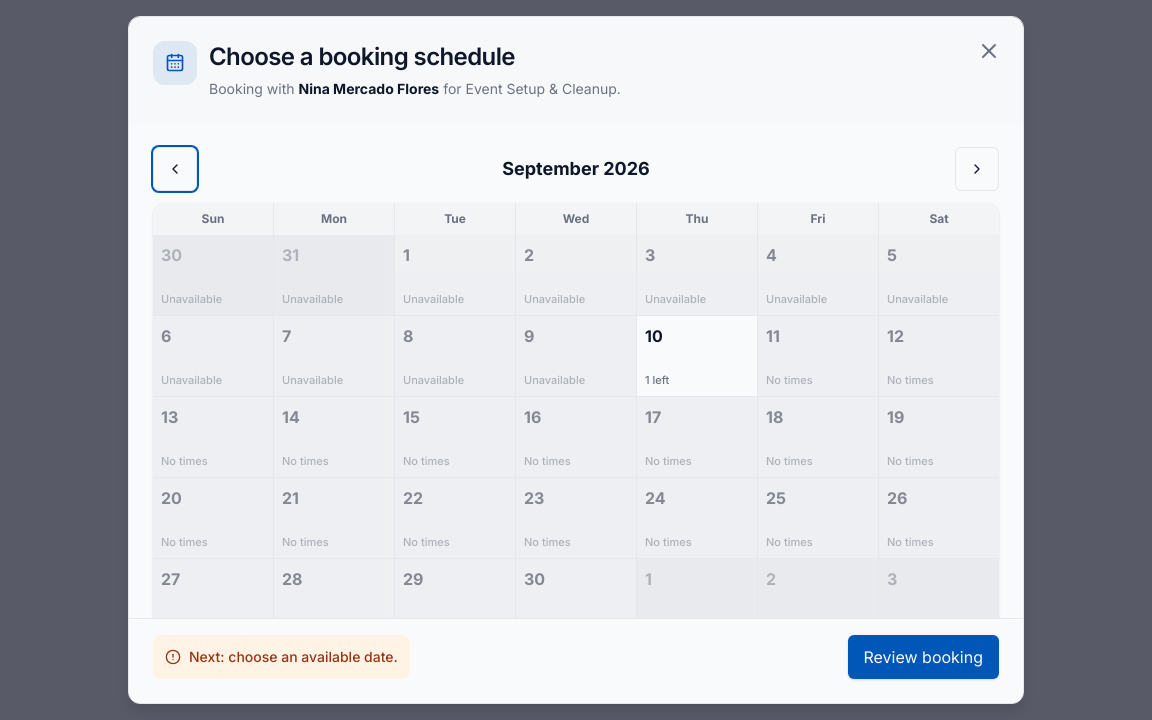
Test: BookingCalendarModal › stops review if another client reserves the selected time
The width and height of the screenshot is (1152, 720).
Click the cell named "Thursday, September 10, 2026, 1 slot available": point(697, 356) [637,316,757,396]
(page scrolled)
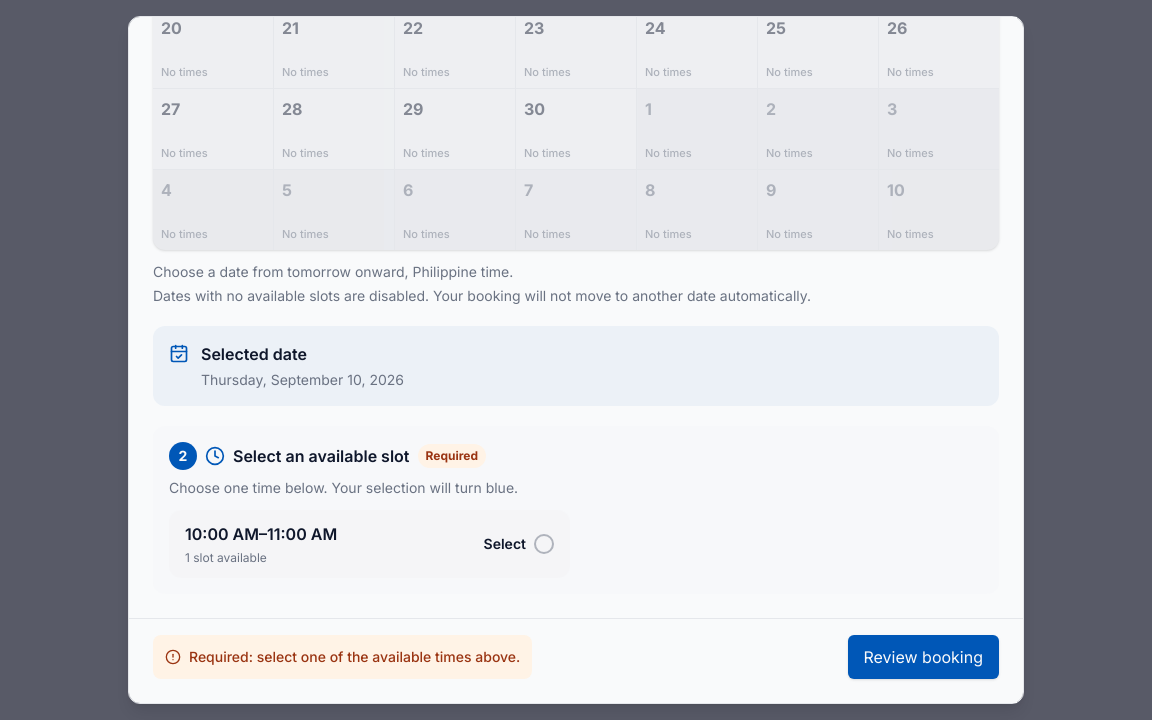
Click the button "10:00 AM–11:00 AM 1 slot available Select": point(222, 534) [169,510,570,578]
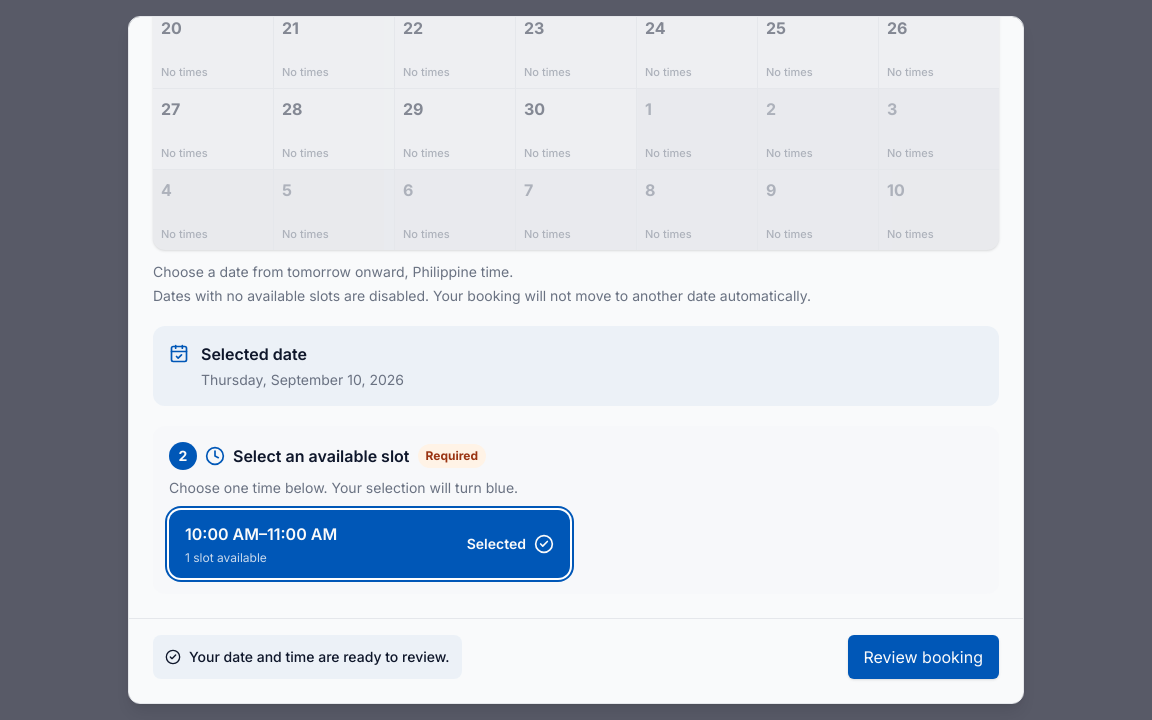
Click the button "Review booking": point(923, 657) [848,635,999,679]
(page scrolled)
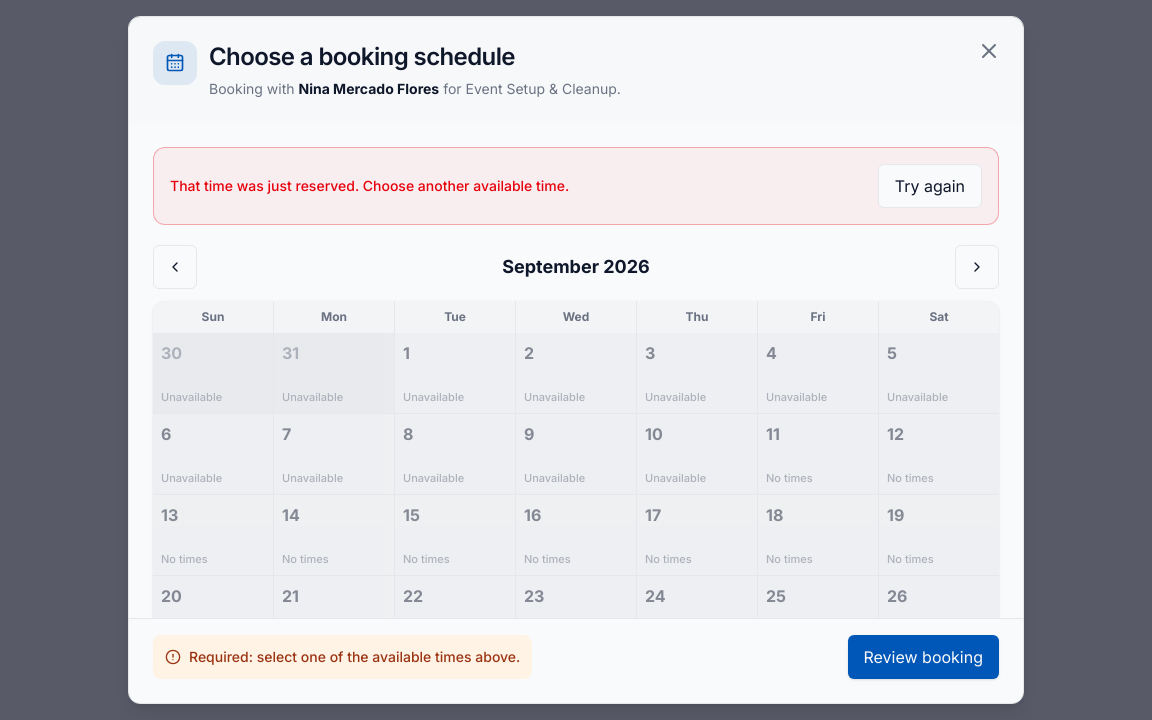
Result: the message shows "That time was just reserved" at [170,177,569,194]
